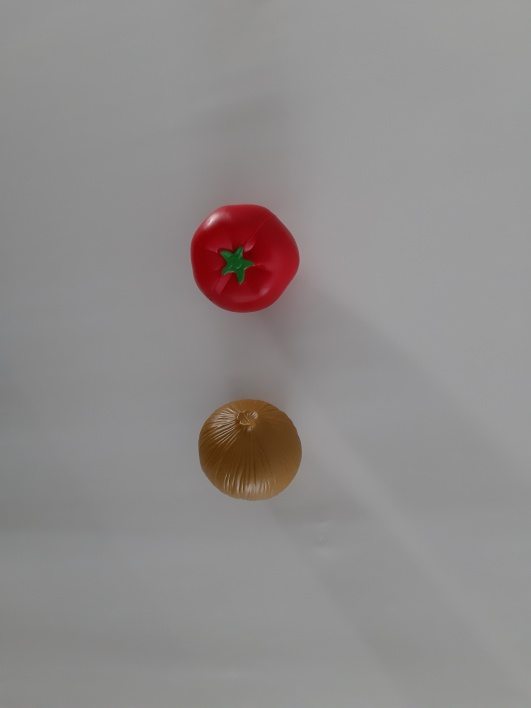onion: (179, 388, 327, 513)
tomato: (170, 190, 317, 324)
